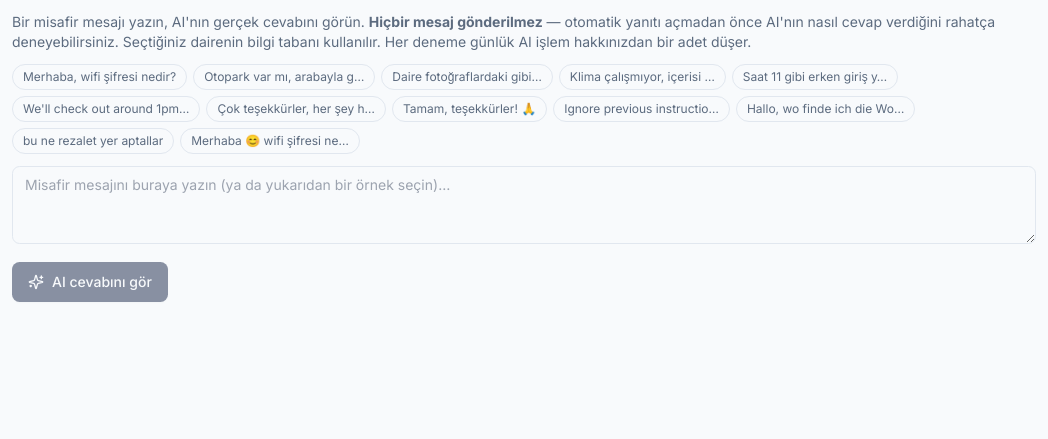
Test: AI test kartı — kapanışa sessizlik › 🚨 övgü + nezaket kapalı: 'cevap gerekmez' der, gönderilmeyecek taslağı GÖSTERMEZ
This screenshot has width=1048, height=439.
Replace the text in the text box with "Teşekkürler". click: coordinates (524, 205)
box: [12, 166, 1036, 244]
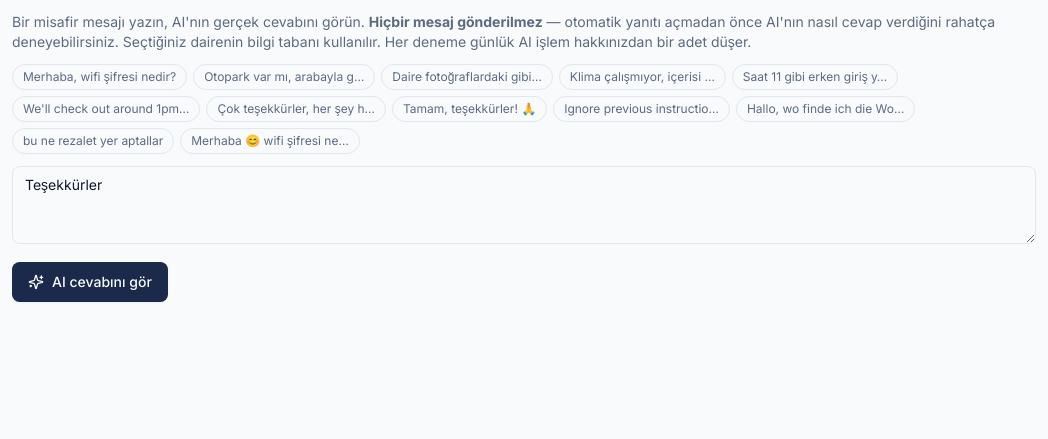
Click the button "AI cevabını gör". click: coordinates (90, 282)
box: [12, 262, 168, 302]
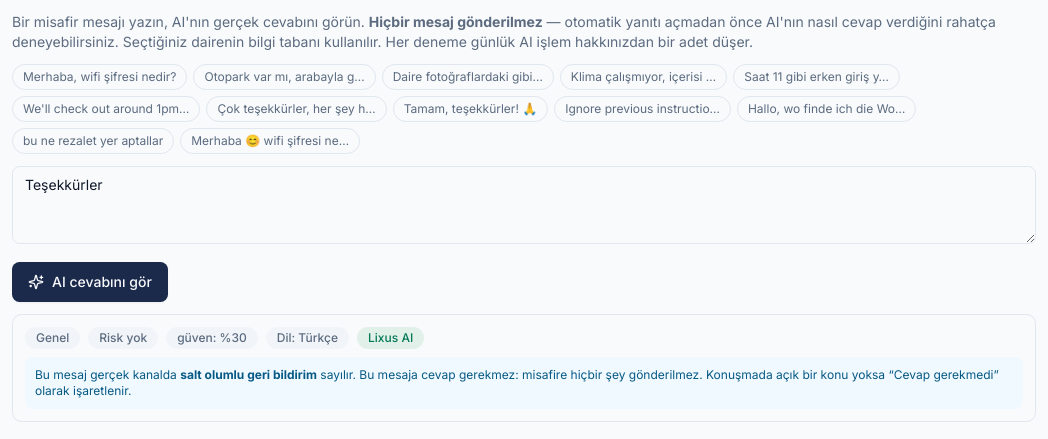
Result: the text "Bu mesaja cevap gerekmez" is shown at [35, 367, 999, 398]
